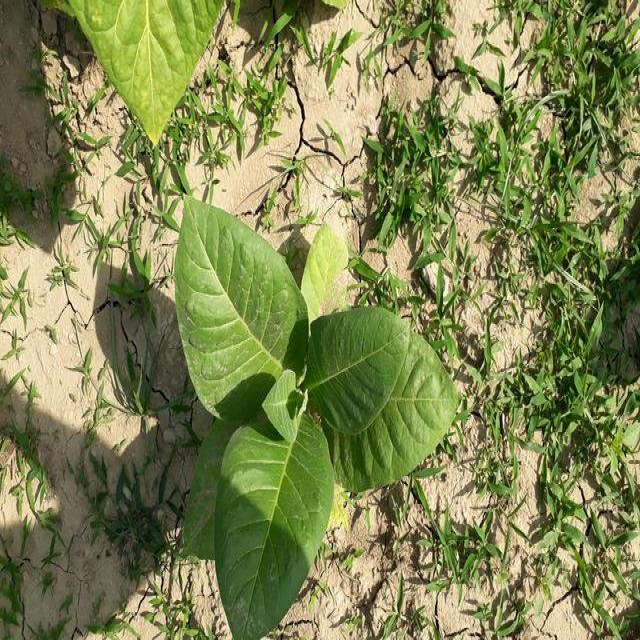crop: (170, 203, 464, 629), (74, 0, 234, 138)
